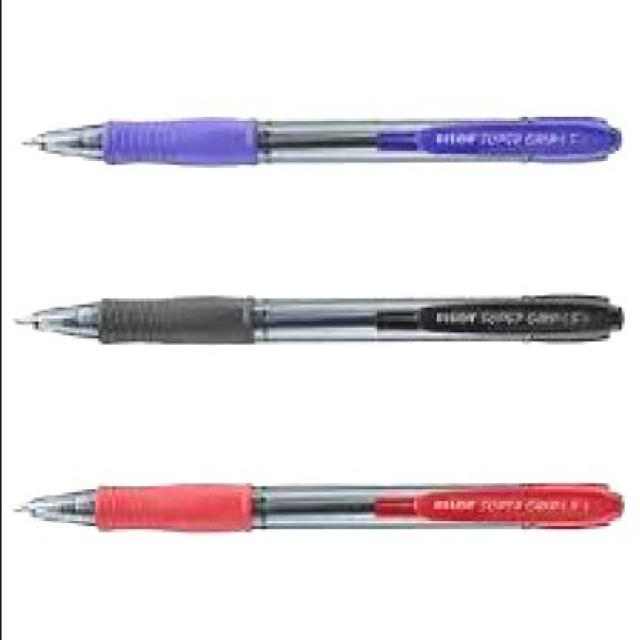pen: (17, 287, 624, 342), (28, 477, 616, 530), (32, 118, 624, 167)
